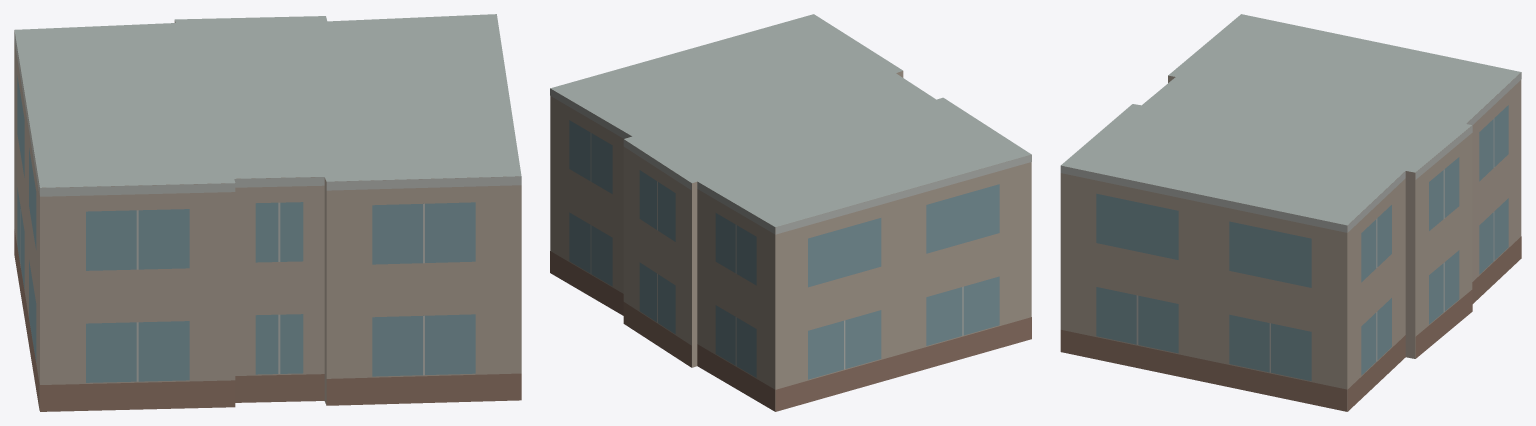
Rendered from survey-upis-33037632.glb.
3 renders of one model, left to right at view 1: azimuth 30°, elevation 25°; view 2: azimuth 150°, elevation 25°; view 3: azimuth 270°, elevation 25°, orthographic. The views are drawn at different scales.
Visible parts, largest first — view 1: survey-upis-33037632.tmp; view 2: survey-upis-33037632.tmp; view 3: survey-upis-33037632.tmp.
Part boxes in pixels (x1,y1,x2,y2): survey-upis-33037632.tmp: [14, 14, 521, 411]; survey-upis-33037632.tmp: [550, 14, 1031, 411]; survey-upis-33037632.tmp: [1060, 14, 1521, 411].
Size of the model in its own units: 14.85 by 6.1 by 13.68.
